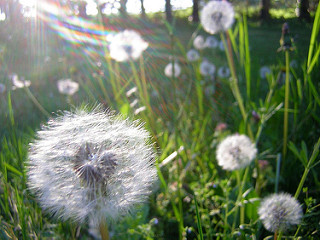dandelion: (18, 97, 172, 233), (97, 18, 161, 95), (250, 184, 307, 240), (211, 129, 260, 177), (191, 3, 242, 42)
